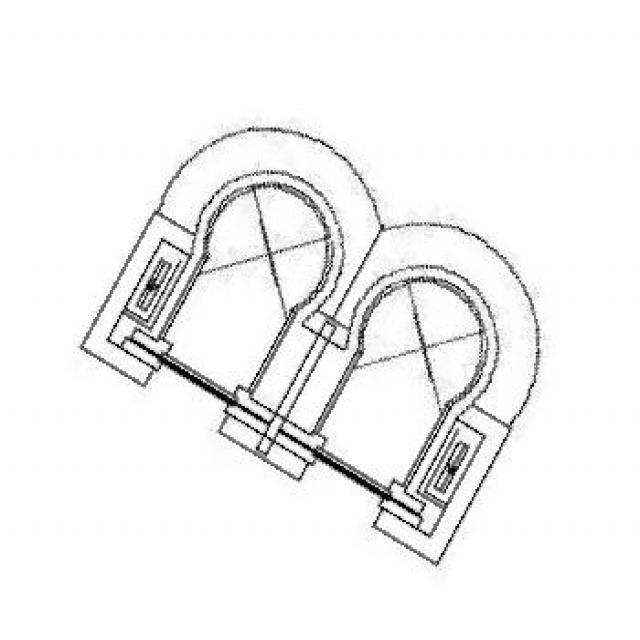lift: (78, 126, 536, 564)
